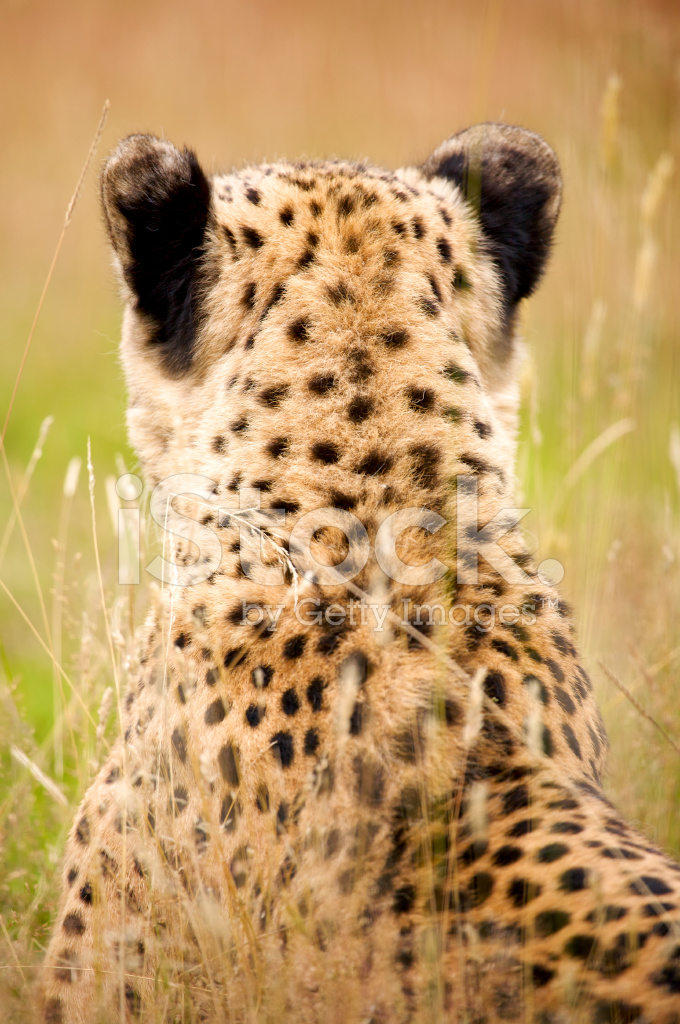Cheetah: (21, 120, 680, 1020)
